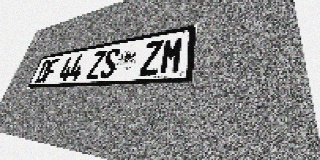4: (67, 54, 87, 81), (57, 55, 76, 82)
D: (34, 60, 52, 83)
F: (42, 58, 60, 83)
M: (159, 36, 185, 75)
S: (99, 47, 121, 79)
Z: (139, 40, 164, 76), (86, 50, 107, 80)
